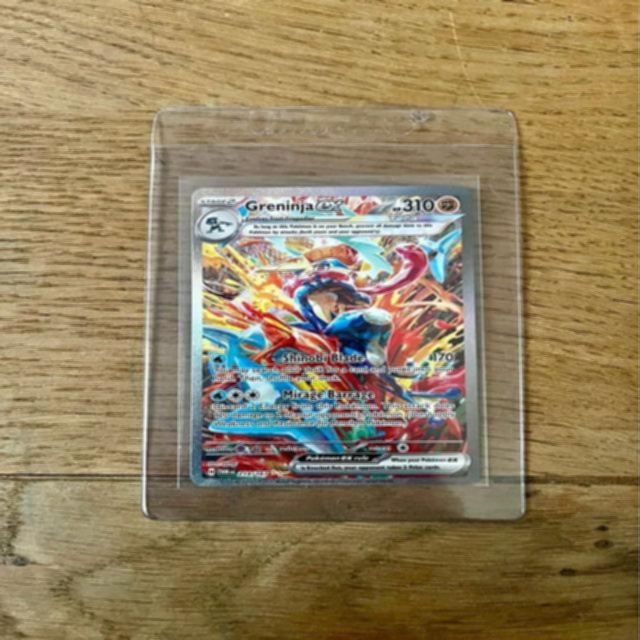card: (190, 185, 481, 486)
